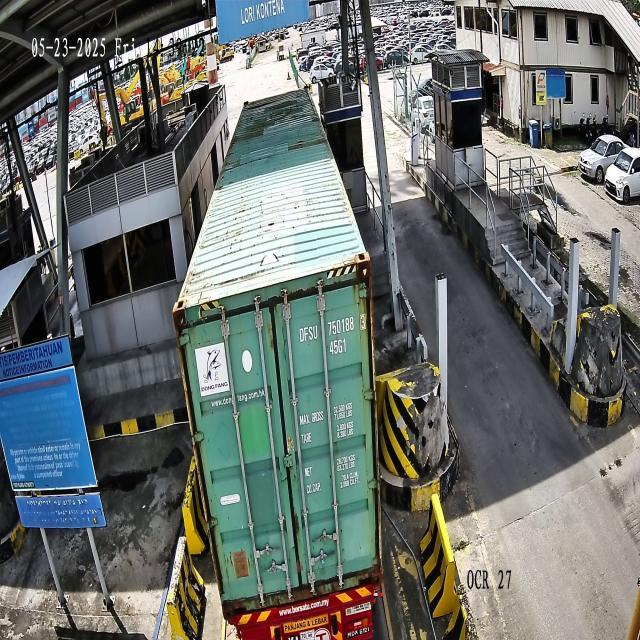ISO: (328, 336, 347, 356)
container_number: (298, 308, 367, 344)
